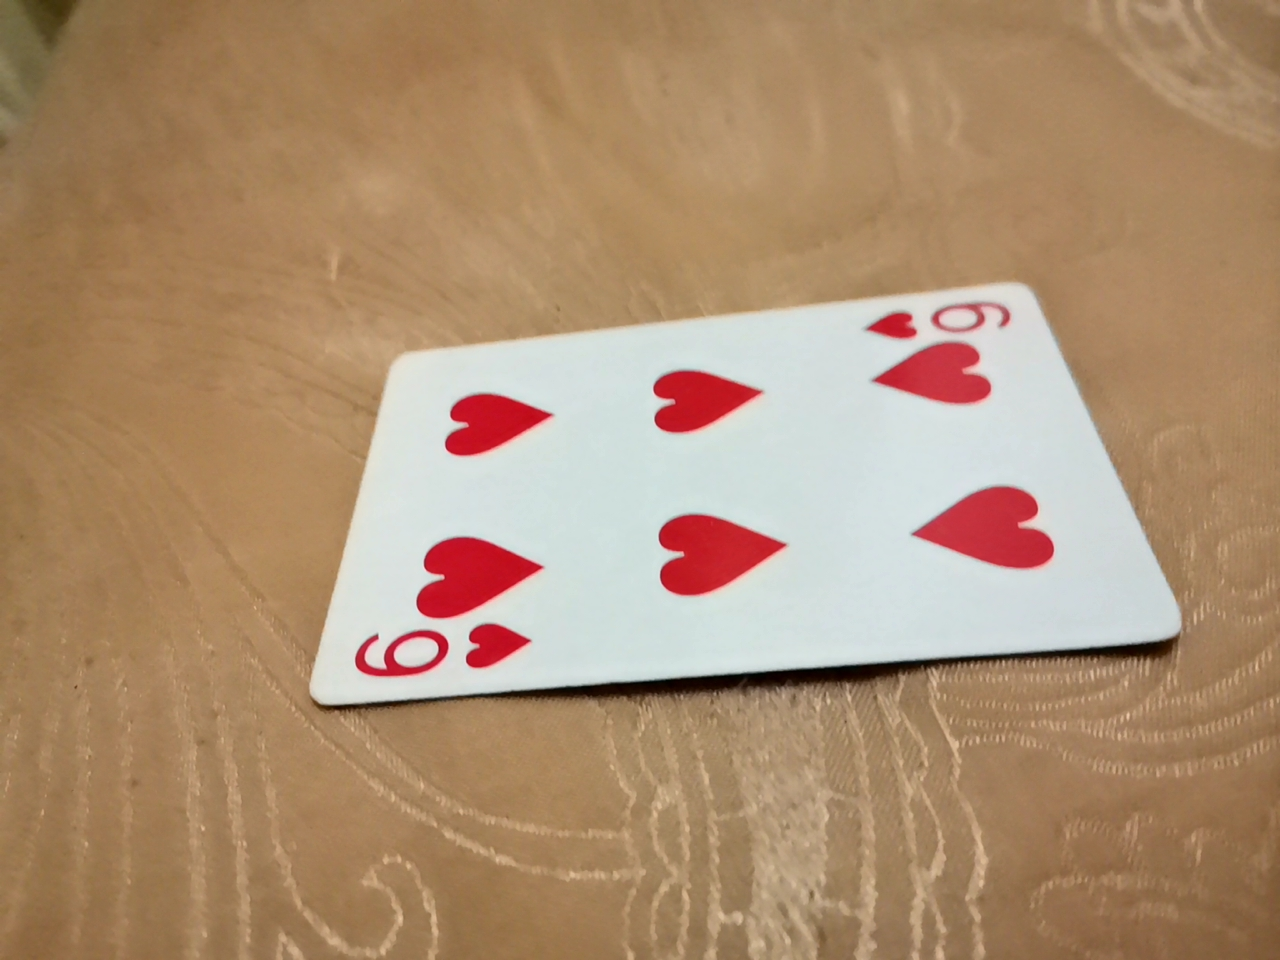hx 6: (296, 255, 1180, 710)
